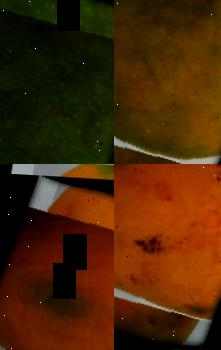PartiallyRipe: (114, 0, 221, 164)
Ripe: (114, 164, 221, 350), (0, 182, 114, 350)
Unripe: (0, 0, 114, 164)
